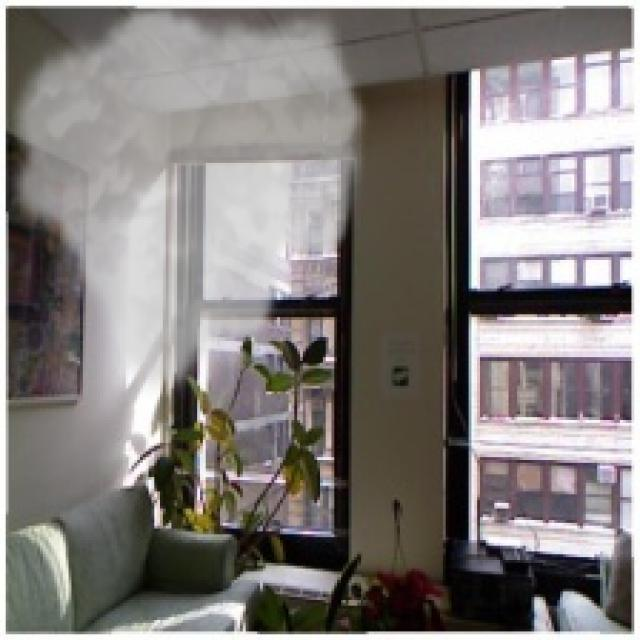Smoke: (0, 0, 372, 398)
